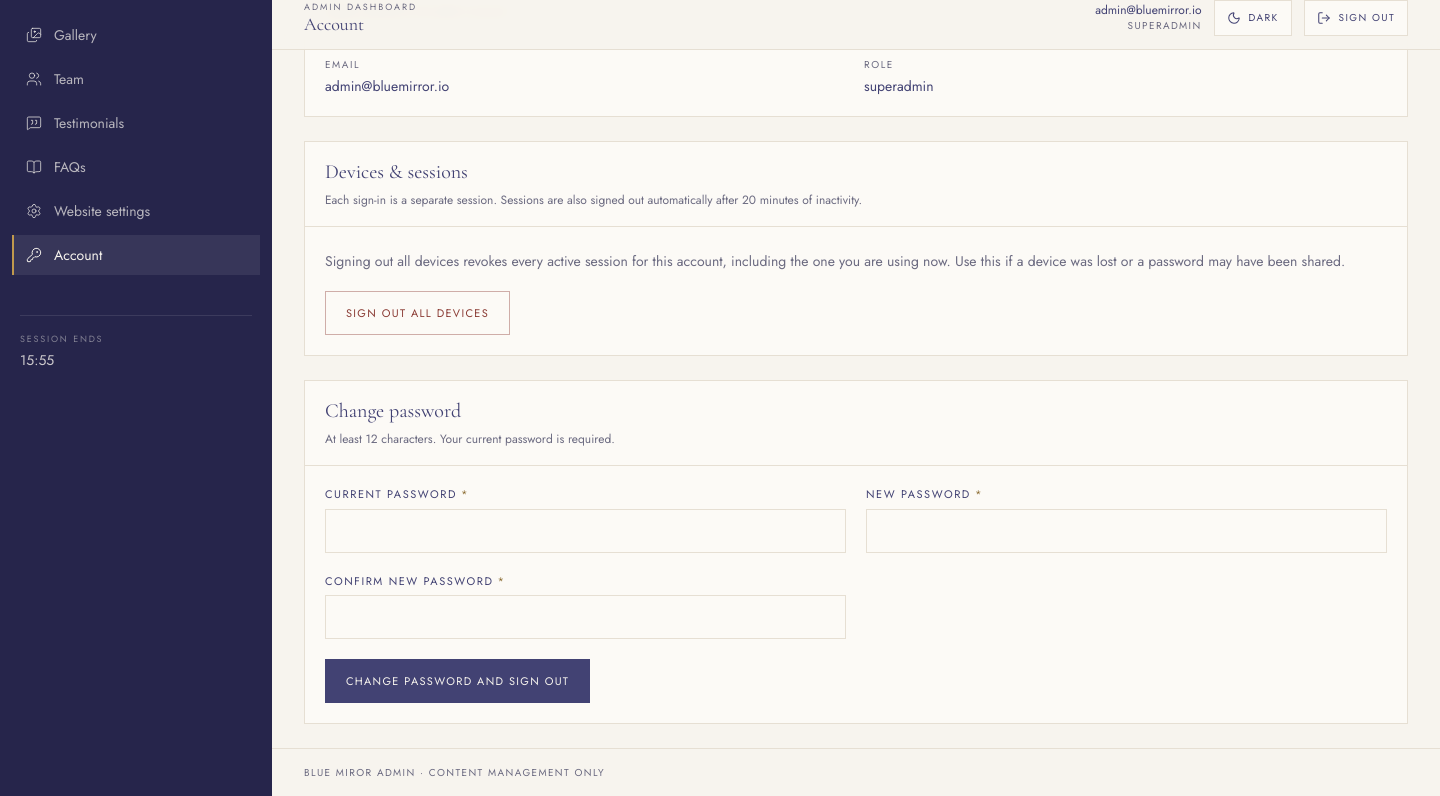
admin account password change › surfaces a wrong current password from the API
This screenshot has width=1440, height=796.
(page scrolled)
In the password field labelled "Current password*": (586,531) x1=325 y1=509 x2=846 y2=553, type "not-the-current-password"
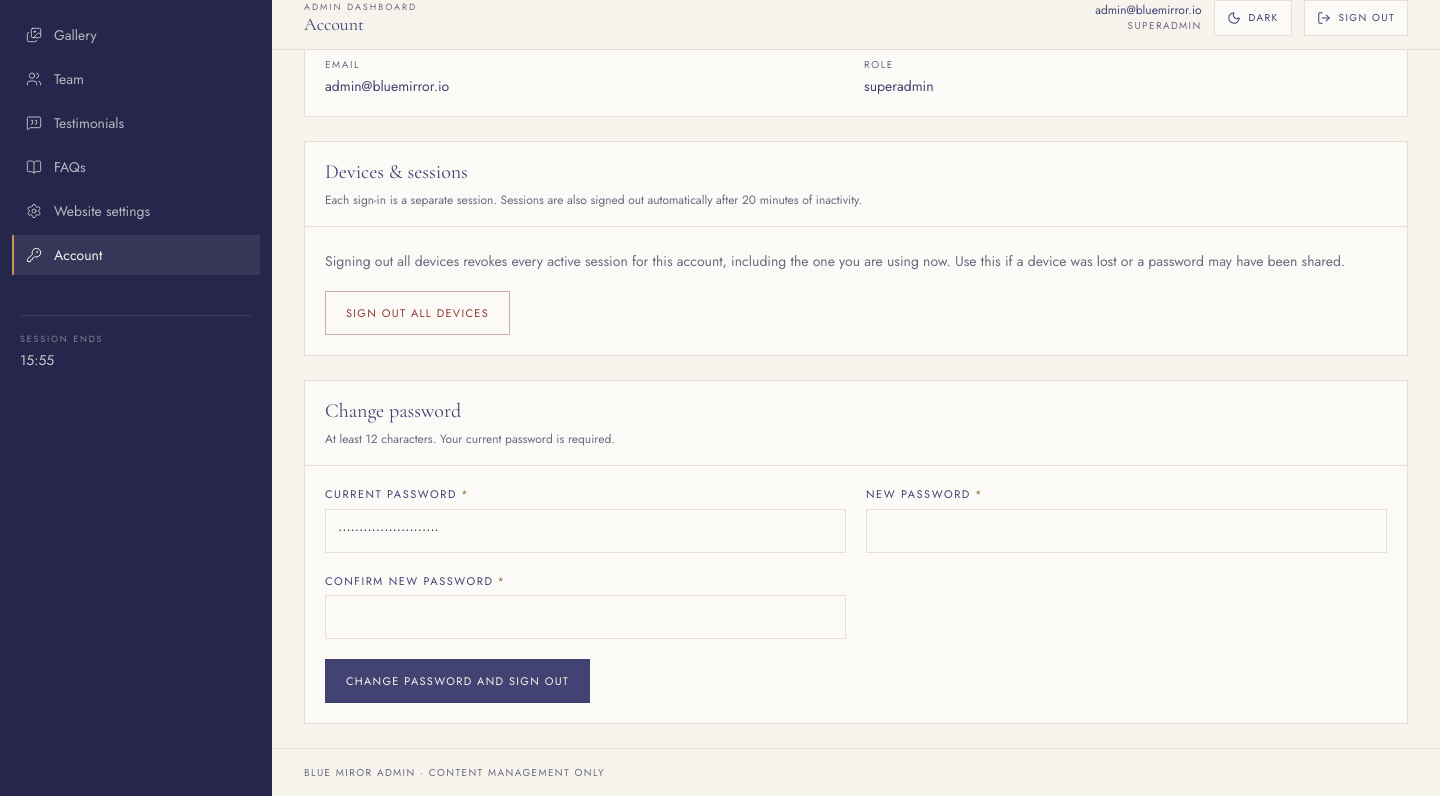
In the password field labelled "New password*": (1126,531) x1=866 y1=509 x2=1387 y2=553, type "LongEnoughPassword-1"
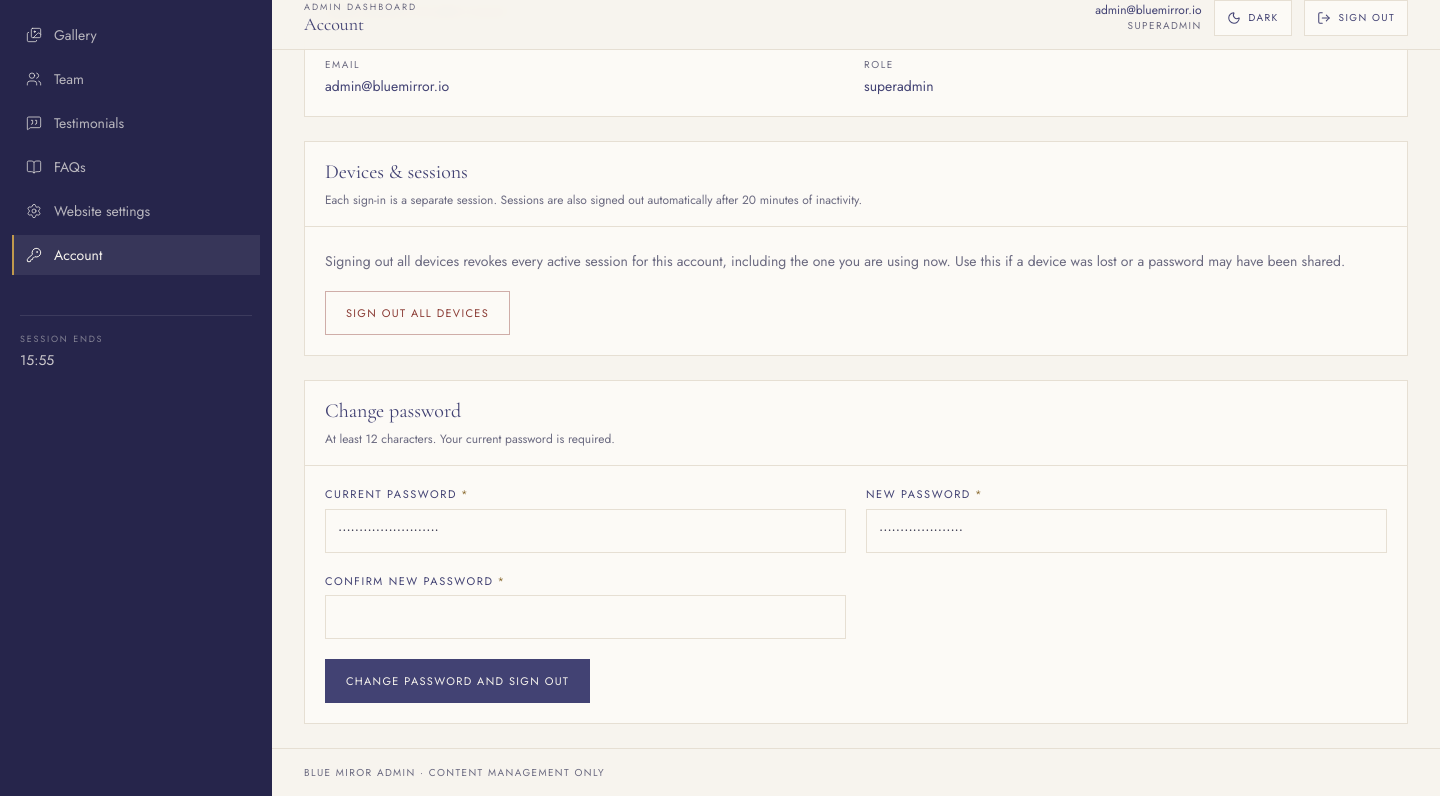
In the password field labelled "Confirm new password*": (586,617) x1=325 y1=595 x2=846 y2=639, type "LongEnoughPassword-1"
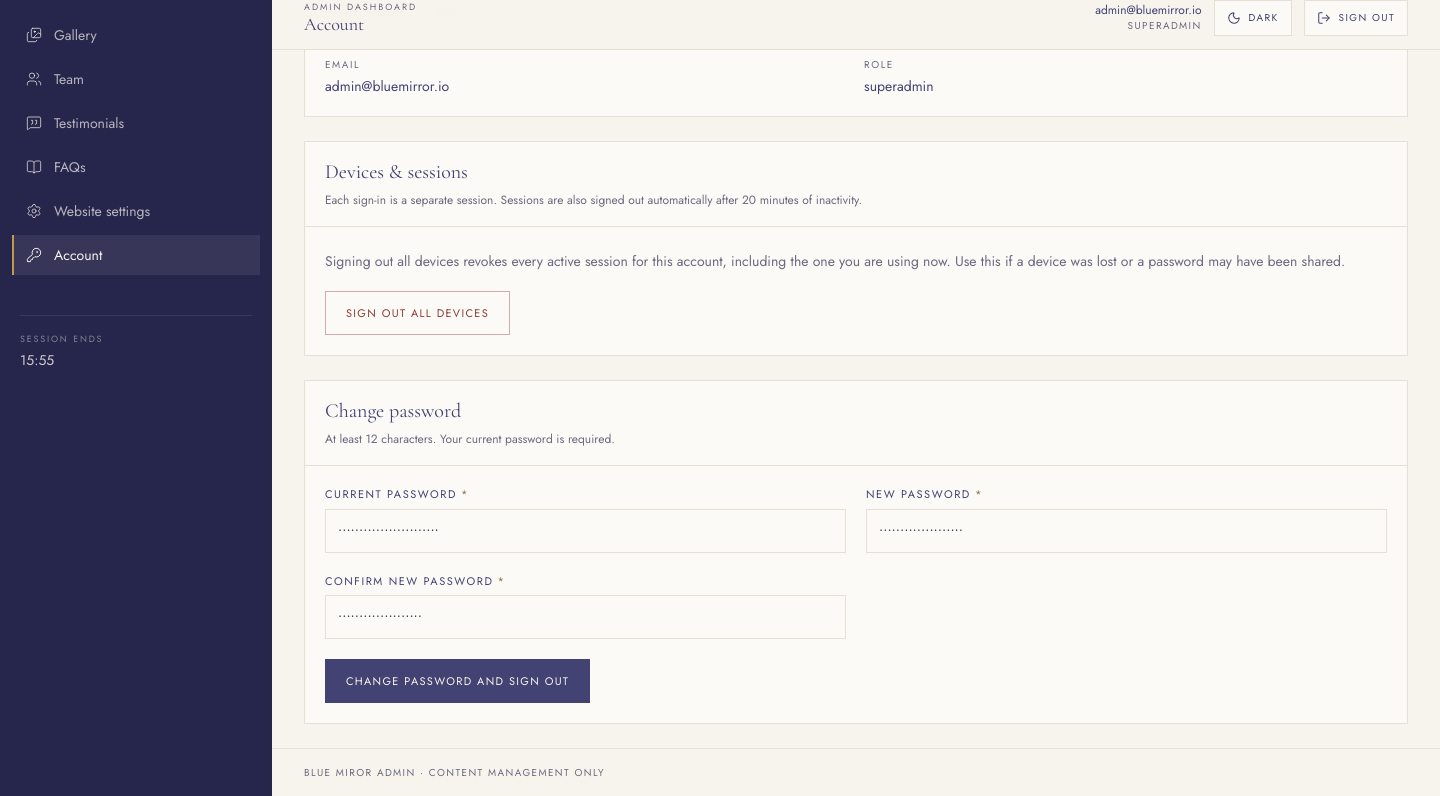
Click the button "Change password and sign out": (458,681) x1=325 y1=659 x2=590 y2=703
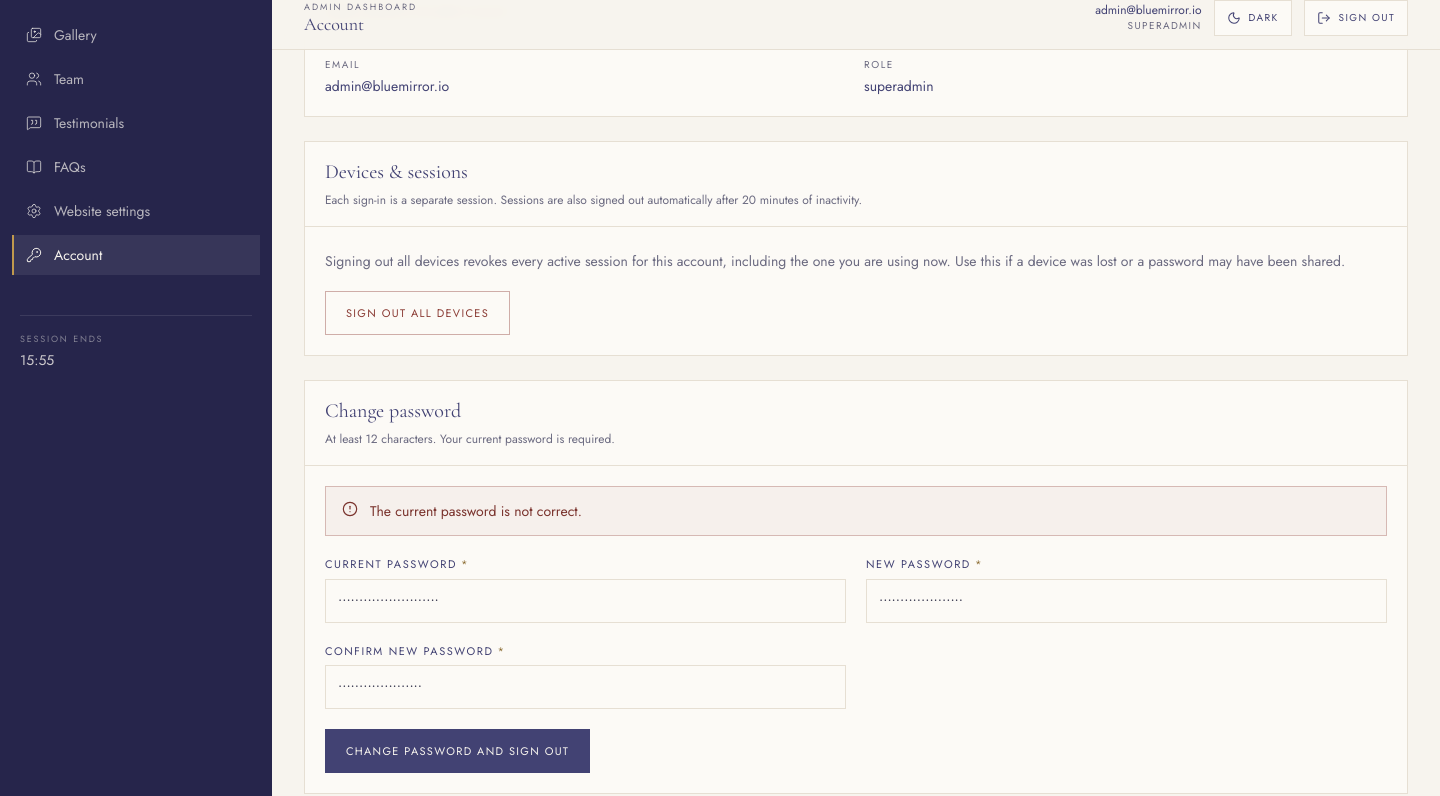
Check: the text "The current password is not correct." is shown, box x1=370 y1=499 x2=582 y2=523
